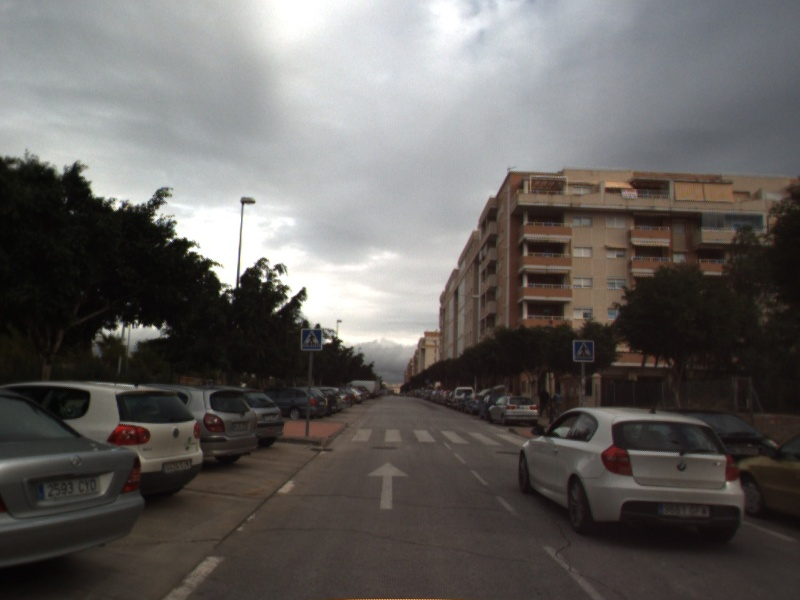STRAIGHT: (365, 460, 412, 511)
